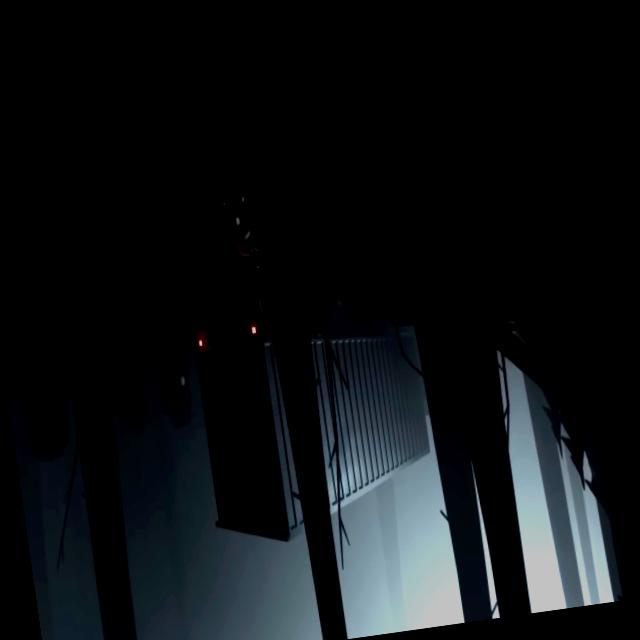boy: (220, 190, 264, 274)
